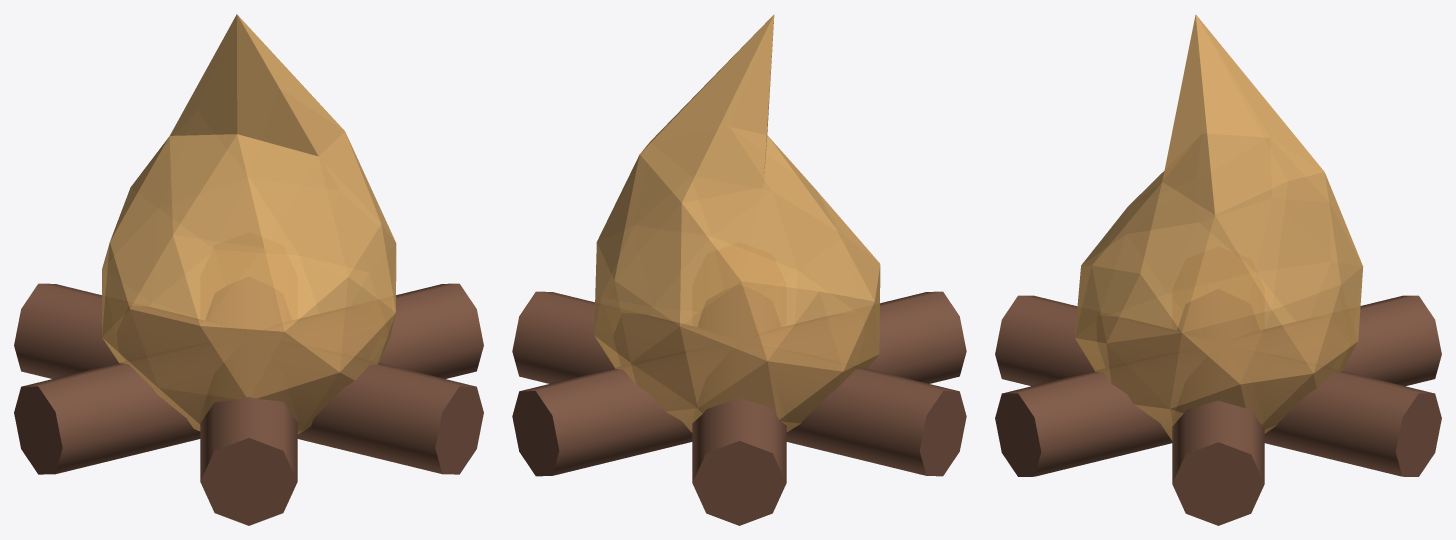
File: Fire.fbx
3 renders of one model, left to right at view 1: azimuth 30°, elevation 25°; view 2: azimuth 150°, elevation 25°; view 3: azimuth 270°, elevation 25°, orthographic. The views are drawn at different scales.
Visible parts, largest first — view 1: Icosphere, Cylinder.031, Cylinder.032, Cylinder.033; view 2: Icosphere, Cylinder.033, Cylinder.031, Cylinder.032; view 3: Icosphere, Cylinder.032, Cylinder.033, Cylinder.031.
Boxes of the visible parts, <box> form: Icosphere: <box>102,14,396,433</box>; Cylinder.031: <box>14,283,483,474</box>; Cylinder.032: <box>14,283,483,474</box>; Cylinder.033: <box>200,277,297,525</box>; Icosphere: <box>594,14,880,432</box>; Cylinder.033: <box>512,291,966,476</box>; Cylinder.031: <box>512,291,966,476</box>; Cylinder.032: <box>692,285,786,525</box>; Icosphere: <box>1075,14,1363,440</box>; Cylinder.032: <box>995,295,1441,476</box>; Cylinder.033: <box>995,295,1441,476</box>; Cylinder.031: <box>1172,289,1264,525</box>.
Size of the model in its own units: 1.25 by 1.22 by 1.21.
